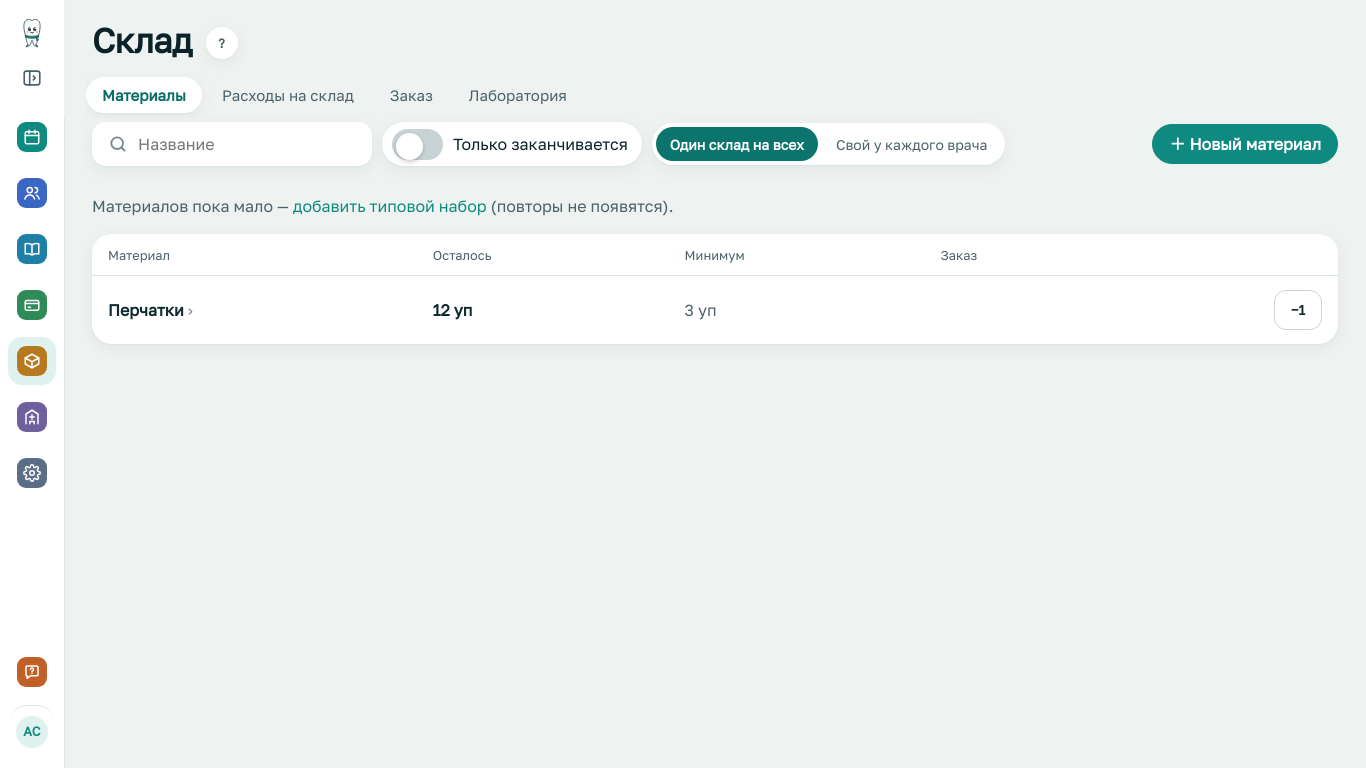
Scenario: «−1» в списке списывает одну штуку; «Расходы на склад» — покупки месяца и по материалам
Click the button named "Списать 1: Перчатки" at x=1298, y=310, box [1274,290,1322,330]
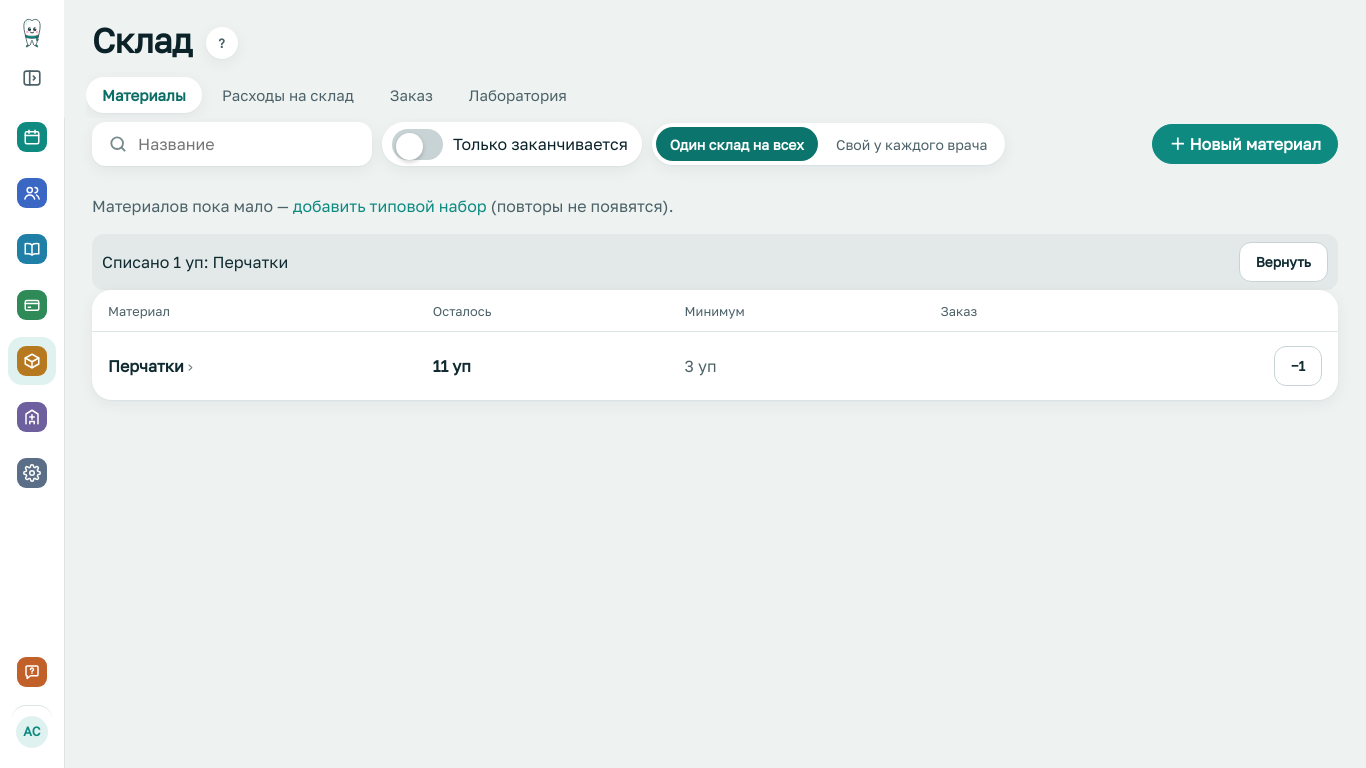
Expected: the button "добавить типовой набор" is shown, [293,194,486,218]
Expected: the text "11 уп" is shown, [417,332,669,400]
Expected: the message shows "Списано 1 уп: Перчатки", [92,234,1338,290]
Click the button "Вернуть" at x=1283, y=262, box [1239,242,1328,282]
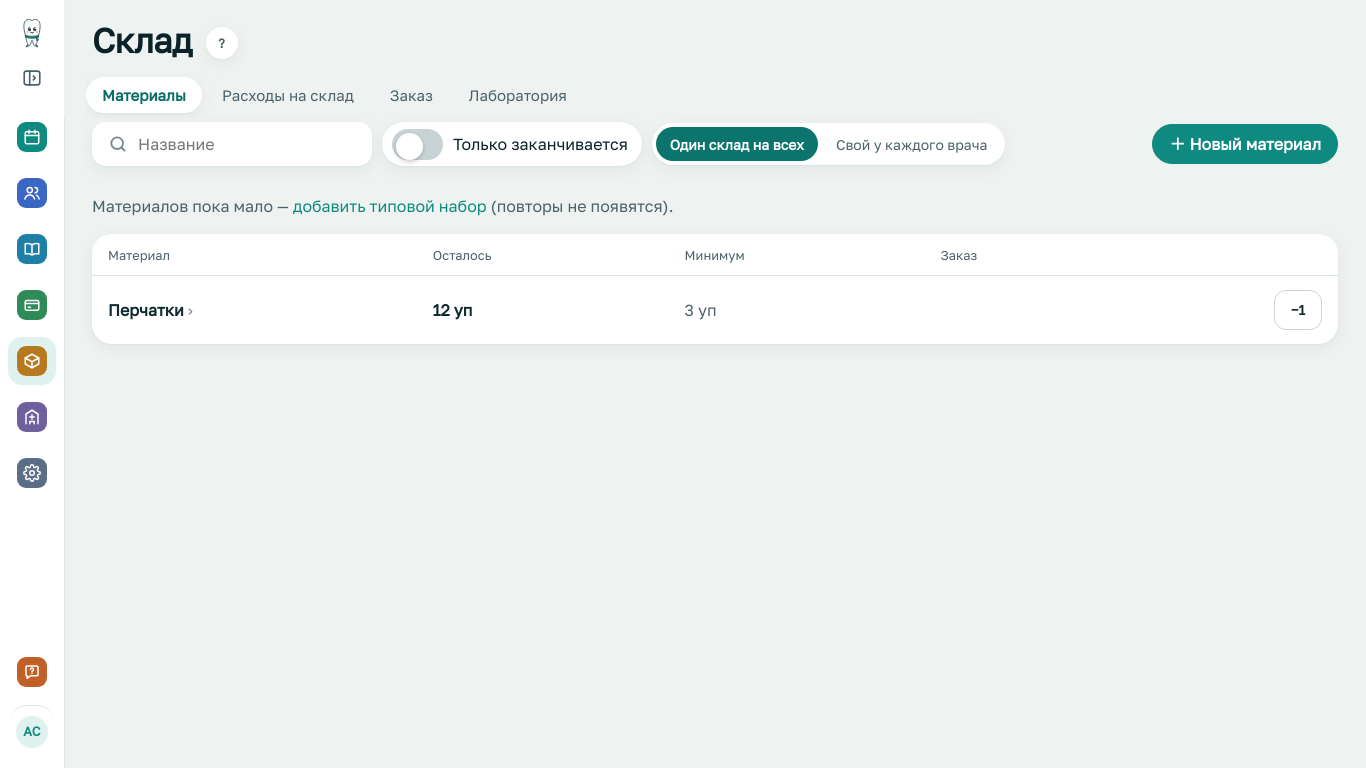
Expected: the navigation bar named "Разделы" is shown, [8,113,56,497]
Expected: the text "12 уп" is shown, [417,276,669,344]
Expected: the text "Списано 1 уп" is gone
Note: «Склад → Расходы на склад» — подраздел в меню слева
Click the link "Расходы на склад" at x=288, y=95, box [222,86,354,104]
(page scrolled)
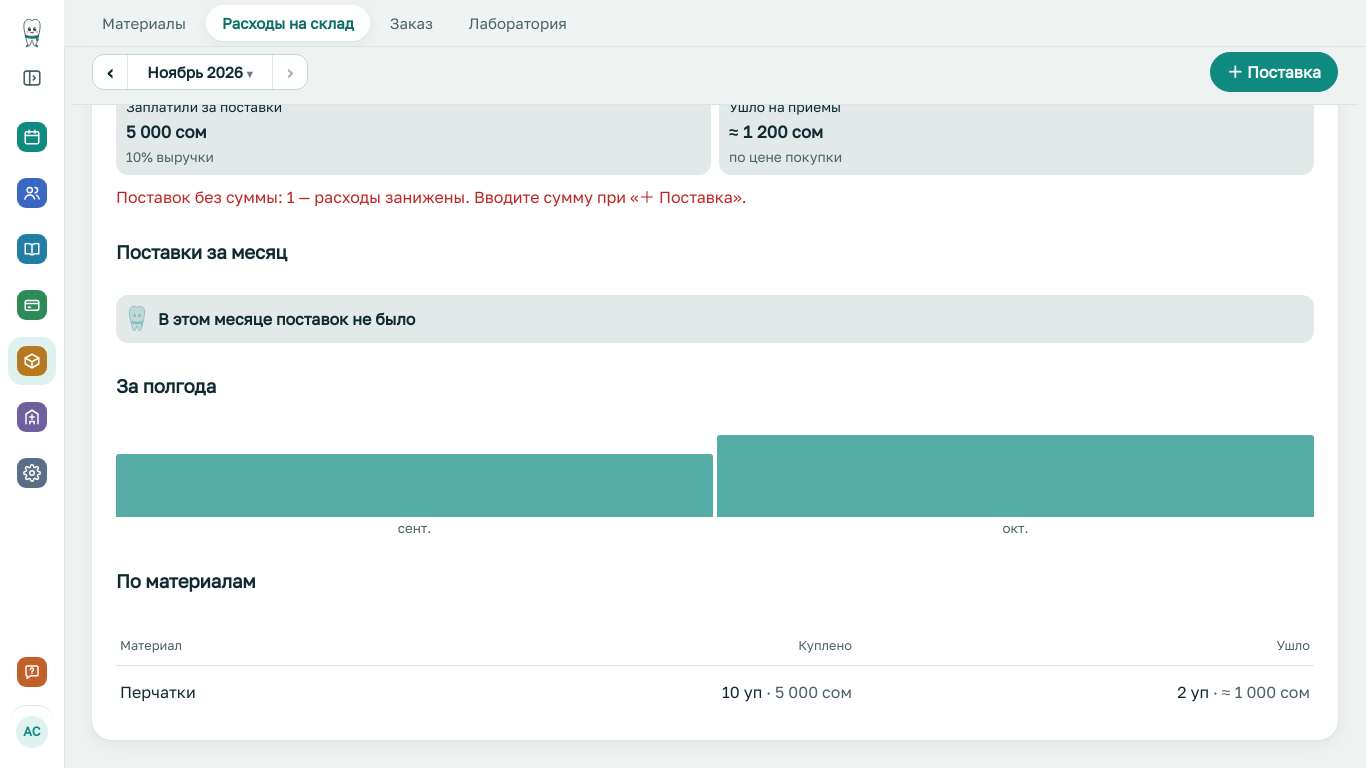
Expected: the text "Перчатки" is shown, [116,666,395,718]
Expected: the text "10% выручки" is shown, [126,149,214,165]
Expected: the element named "Расходы на склад" shows "Поставок без суммы: 1"
